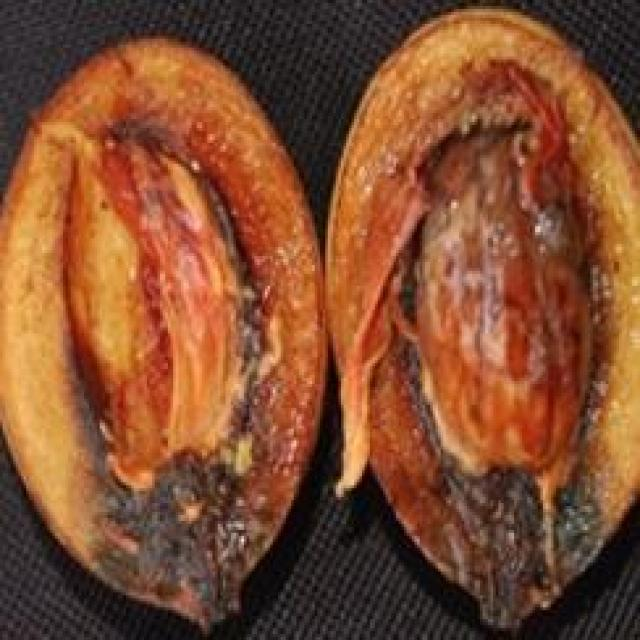damaged: (0, 36, 336, 637), (323, 9, 637, 637)
